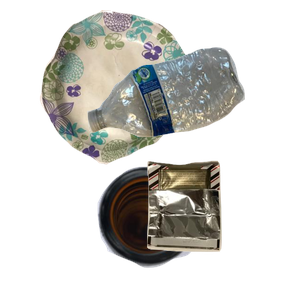glass: (95, 164, 286, 300)
paper: (37, 10, 219, 167)
plastic: (85, 45, 300, 175)
trash: (144, 158, 300, 300)
